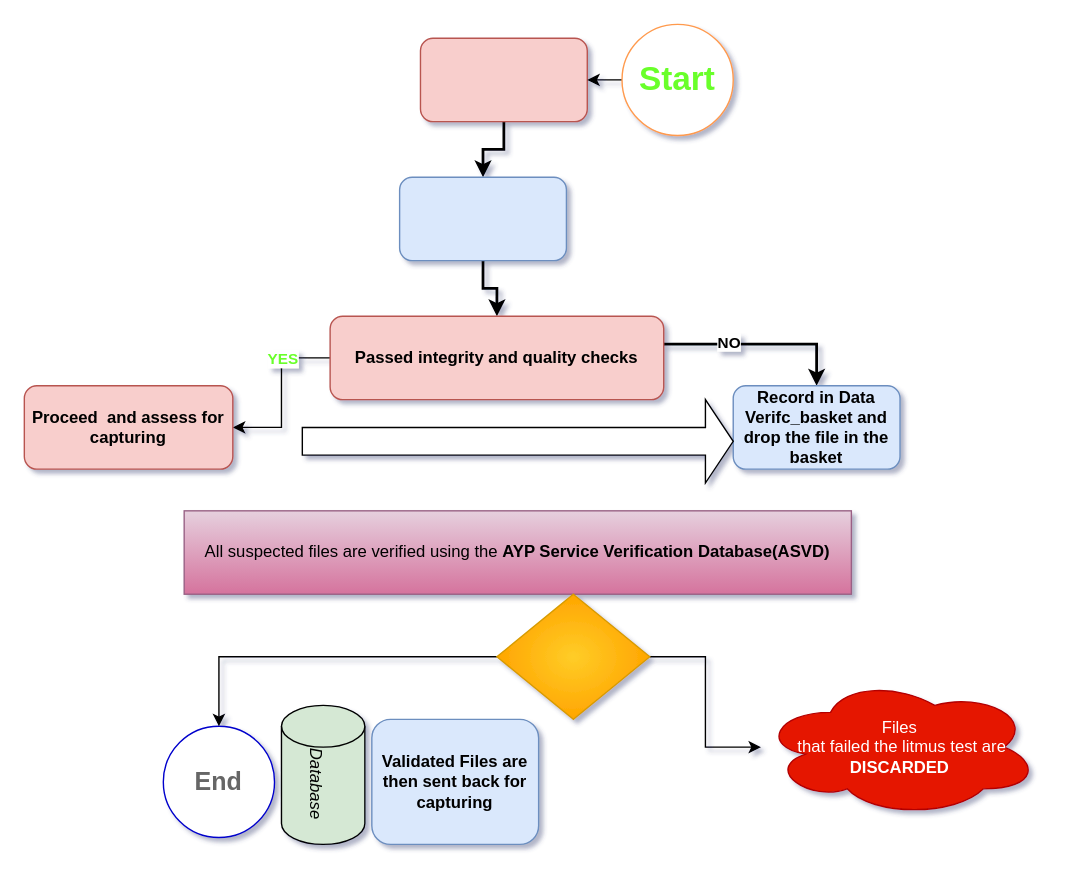
The diagram is 1072 pixels wide and 877 high, and some of its shapes have lost their labels. Each missing label, with the centre of its shape:
Data is verified for quality and integrity: (x=482, y=218)
Data/ files submitted to M&E Dept for verification: (x=503, y=79)
Failed/suspicious during capturing: (x=517, y=440)
Passed ASVD phase?: (x=573, y=656)
